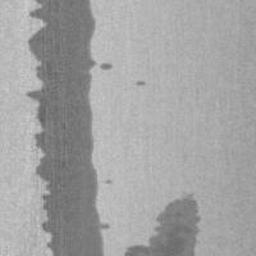Water spot: (27, 0, 110, 256), (123, 193, 200, 256), (101, 63, 114, 70)
